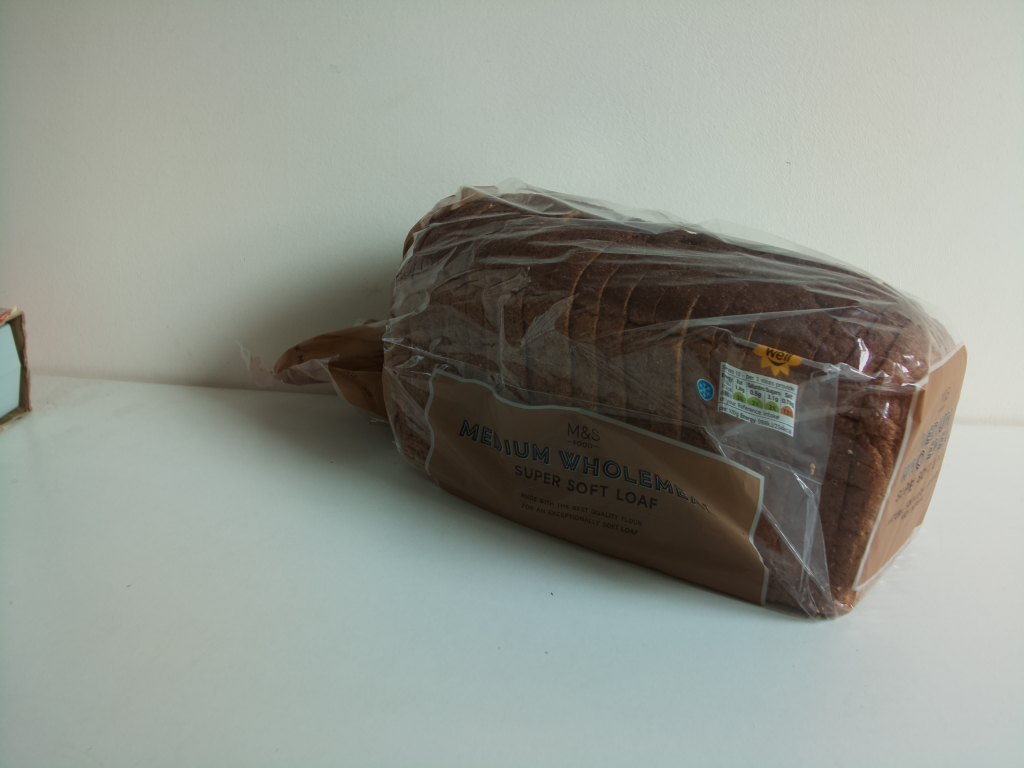bread: (263, 180, 966, 624)
